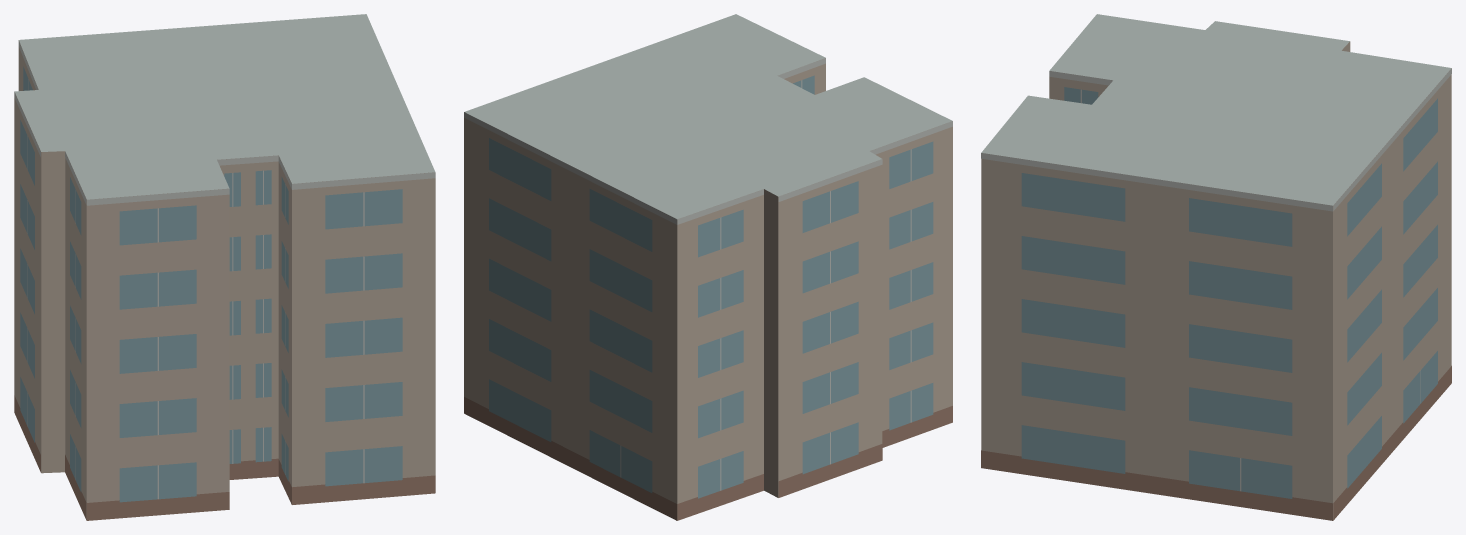
The model's file is survey-upis-32852774.glb.
3 renders of one model, left to right at view 1: azimuth 30°, elevation 25°; view 2: azimuth 150°, elevation 25°; view 3: azimuth 270°, elevation 25°, orthographic. The views are drawn at different scales.
Visible parts, largest first — view 1: survey-upis-32852774.tmp; view 2: survey-upis-32852774.tmp; view 3: survey-upis-32852774.tmp.
Boxes of the visible parts, x1,y1,x2,y2 form: survey-upis-32852774.tmp: (14,14,435,520); survey-upis-32852774.tmp: (464,14,952,520); survey-upis-32852774.tmp: (981,14,1451,520).
Size of the model in its own units: 16.96 by 13 by 17.6.
